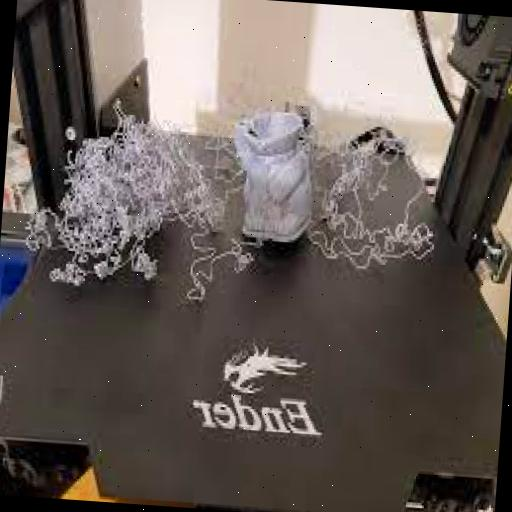spaghetti: (24, 96, 226, 320), (314, 89, 438, 280)
